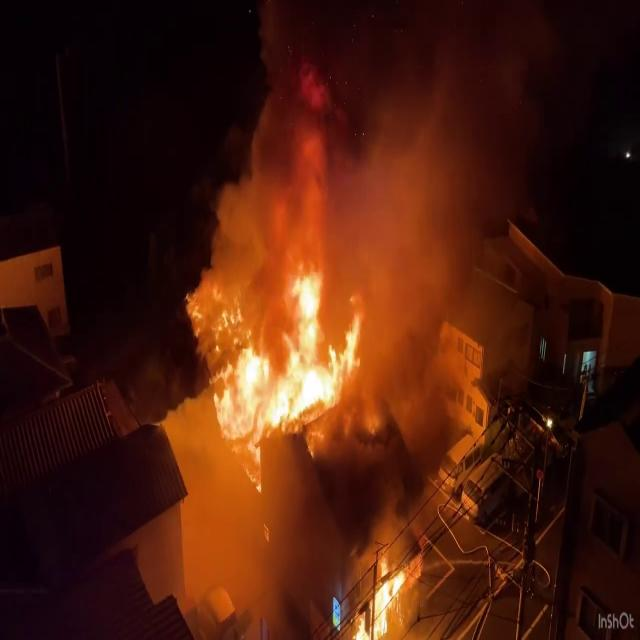Fire: (207, 246, 369, 487), (345, 546, 413, 639)
Smoke: (204, 2, 528, 287)
